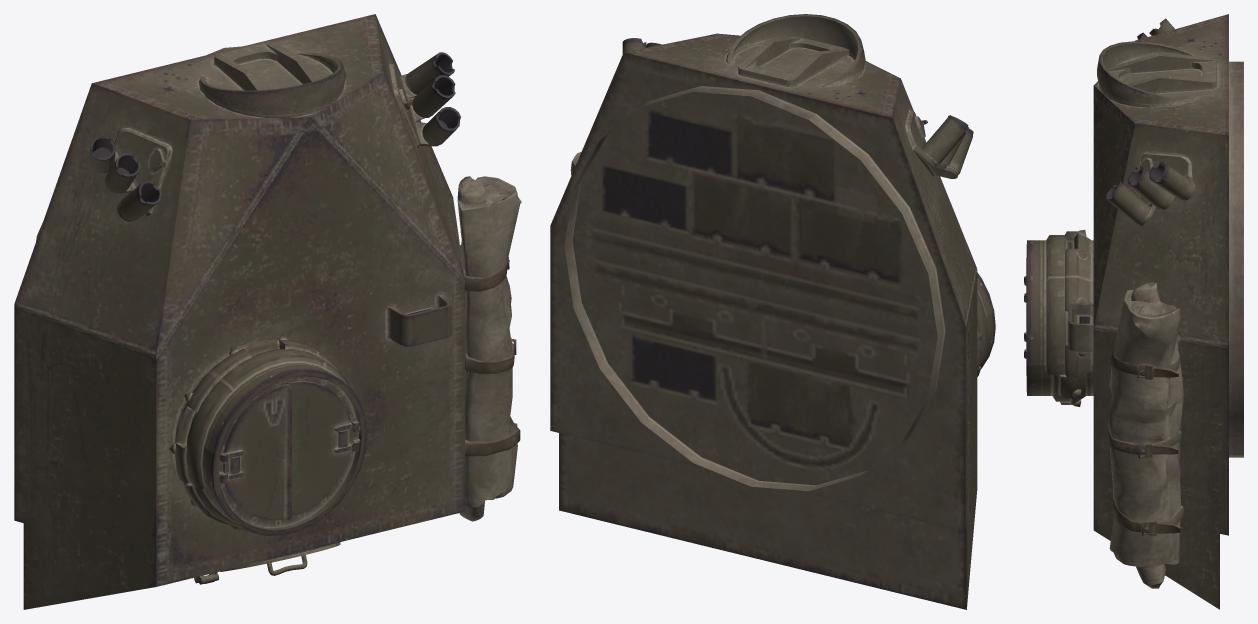
Rendered from Turret_02.glb.
3 renders of one model, left to right at view 1: azimuth 30°, elevation 25°; view 2: azimuth 150°, elevation 25°; view 3: azimuth 270°, elevation 25°, orthographic. The views are drawn at different scales.
Parts seen in each view (by area): view 1: set_0_group_0; view 2: set_0_group_0; view 3: set_0_group_0.
Part boxes in pixels (x1,y1,x2,y2): set_0_group_0: (14, 14, 521, 609); set_0_group_0: (550, 14, 995, 609); set_0_group_0: (1024, 14, 1243, 609).
Bounding box in the file's own units: 1.91 × 2.08 × 0.9024.
Materials: 1 (1 with a texture image).
